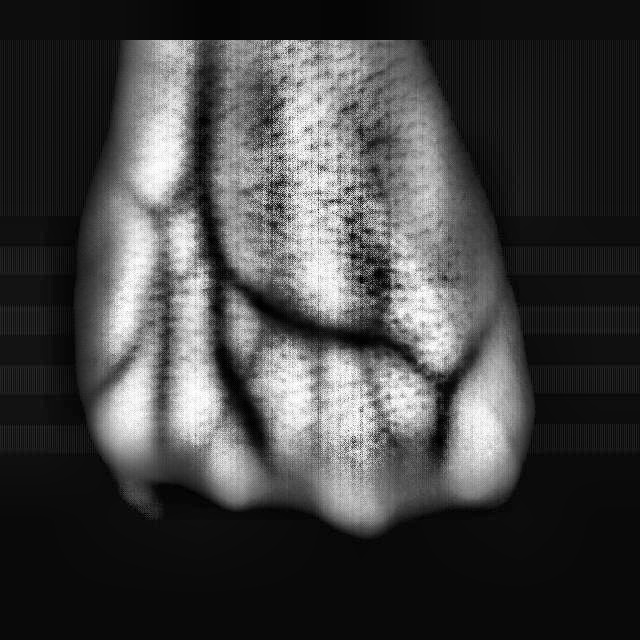Vein: (183, 88, 236, 263)
